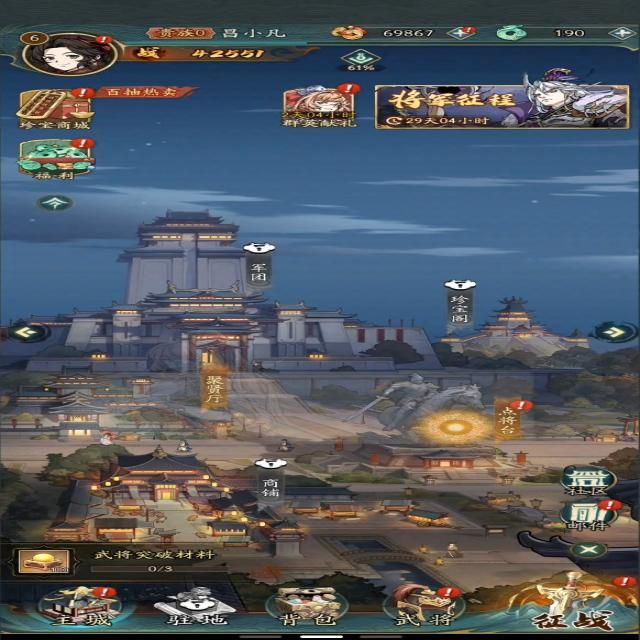hint-reddot: (62, 84, 108, 100), (431, 584, 464, 600), (608, 573, 640, 589), (332, 81, 364, 97), (70, 136, 100, 151), (93, 586, 119, 602), (599, 498, 628, 512), (508, 399, 537, 412), (92, 33, 113, 44), (460, 25, 480, 35)
navigation-bag: (267, 583, 354, 630)
navigation-community: (556, 464, 621, 497)
navigation-dianjiangtai: (488, 397, 529, 442)
navigation-fight: (506, 570, 632, 637)
navigation-hero: (375, 582, 479, 631)
navigation-juntuan-off: (242, 242, 277, 288)
navigation-juxianting: (196, 357, 232, 412)
navigation-mail: (555, 498, 624, 533)
navigation-main: (42, 584, 125, 625)
navigation-role: (6, 25, 128, 79)
navigation-shop-off: (252, 456, 288, 507)
navigation-station-off: (153, 586, 241, 631)
navigation-treasureMall: (17, 87, 95, 131)
navigation-welfare: (16, 136, 97, 182)
navigation-zhenbaoge-off: (442, 278, 478, 328)
operation-close: (567, 542, 610, 560)
